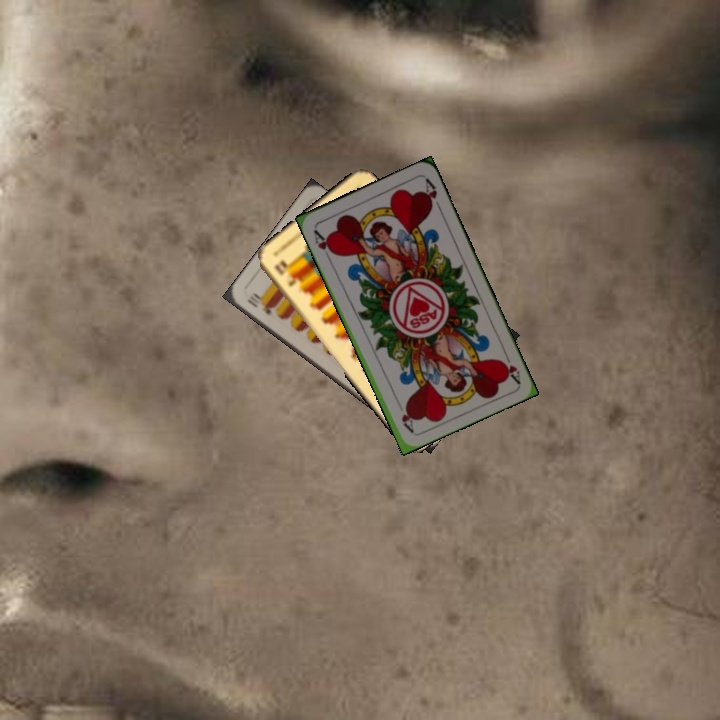E10: (243, 290, 275, 318), (270, 258, 298, 289)
HA: (309, 225, 337, 263), (496, 346, 523, 385)
